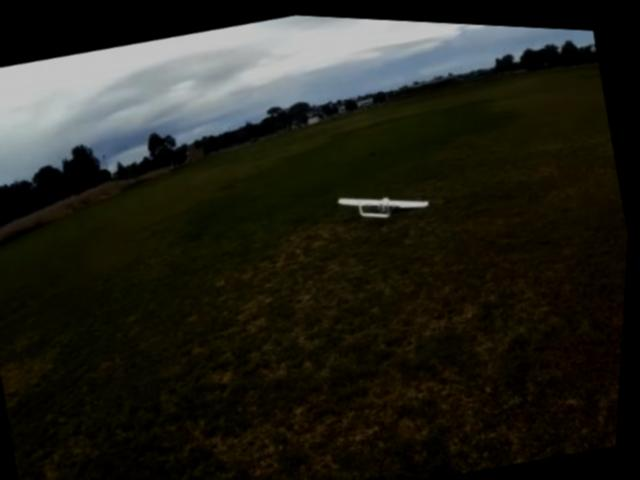uav: (329, 165, 440, 234)
